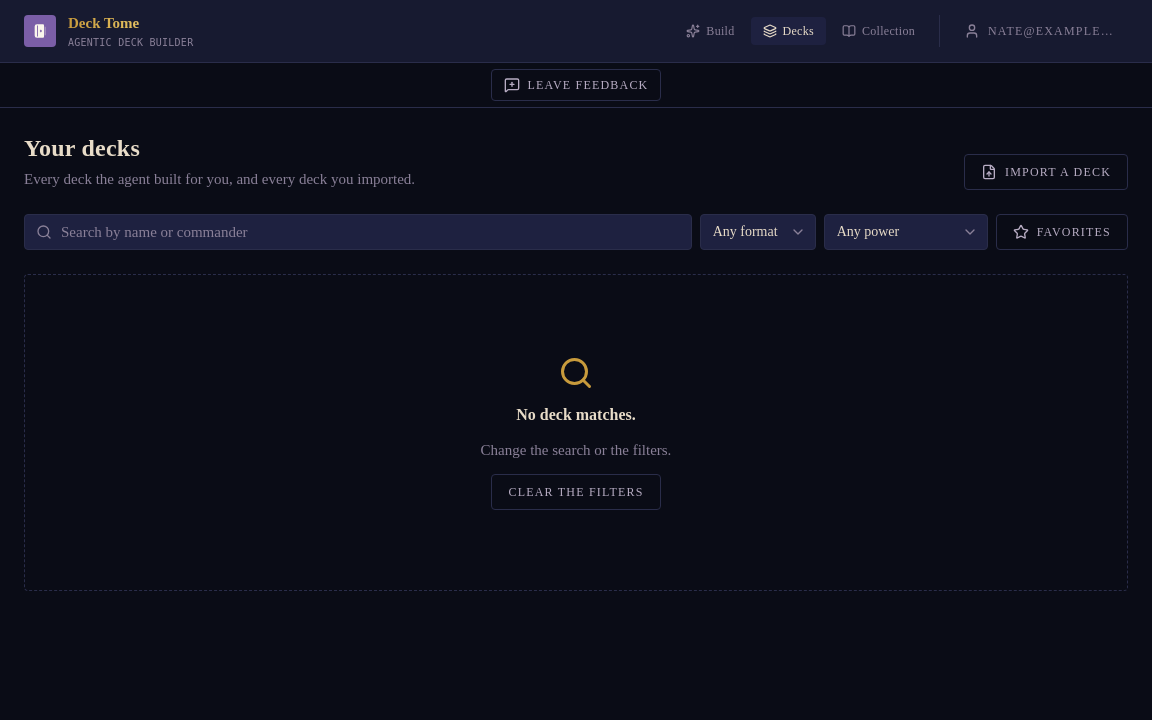
it: a menu trigger › takes the props Radix gives it, on the account menu
Click the button with aria-label "Account menu". click: x=1040, y=31
box: [952,15,1128,47]
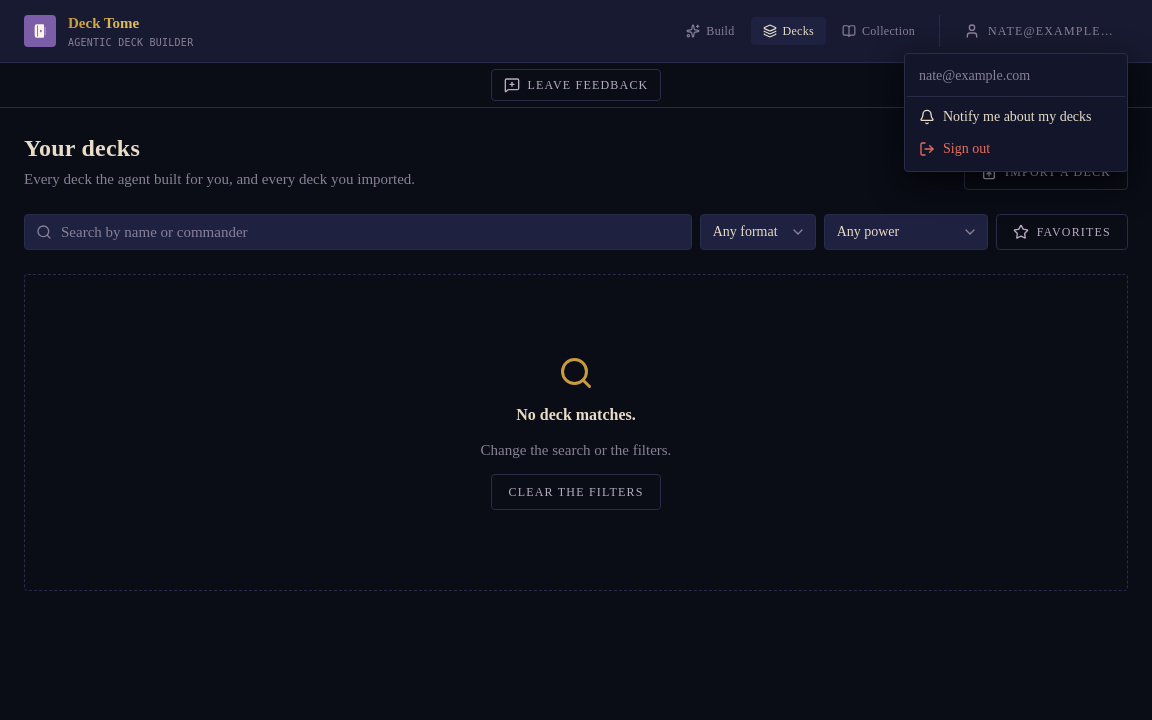
Expected: the menu item "Sign out" is shown, [919,141,990,157]
